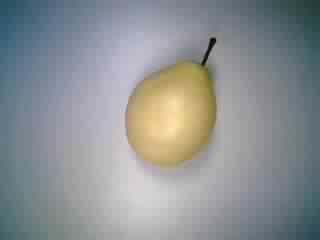pear: (116, 33, 237, 172)
